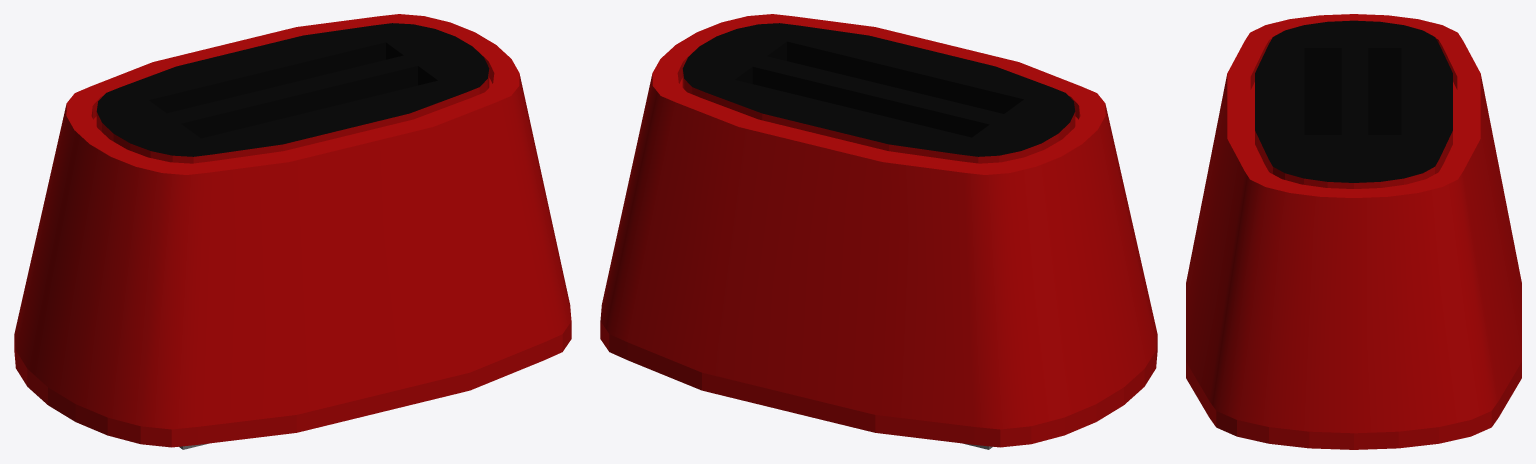
File: Toaster.fbx
3 views of the same model, side by side, from view 1: azimuth 30°, elevation 25°; view 2: azimuth 150°, elevation 25°; view 3: azimuth 270°, elevation 25° (orthographic). The views are drawn at different scales.
Parts seen in each view (by area): view 1: Toaster; view 2: Toaster; view 3: Toaster.
Boxes of the visible parts, <box> form: Toaster: <box>14,14,571,449</box>; Toaster: <box>600,14,1157,449</box>; Toaster: <box>1186,14,1521,449</box>.
Size of the model in its own units: 47.05 by 24.97 by 30.09.
